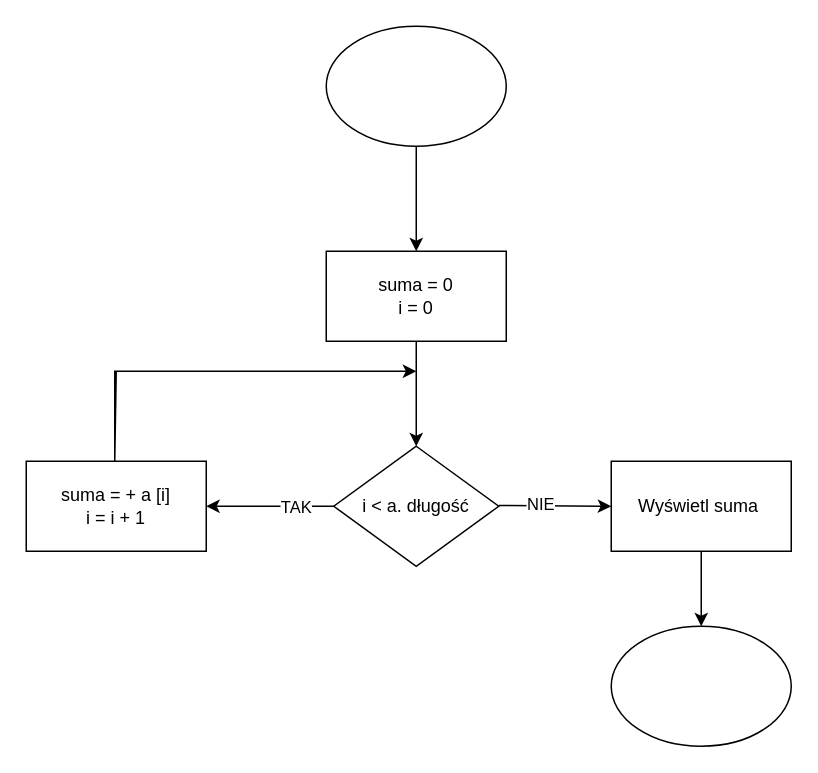
Some shapes in this 818 by 773 pixel diagram are drawn without their labels. Here are the shapes that lost their labels. From the top down, the centre of each, then its label:
(415,85): START
(700,685): STOP
